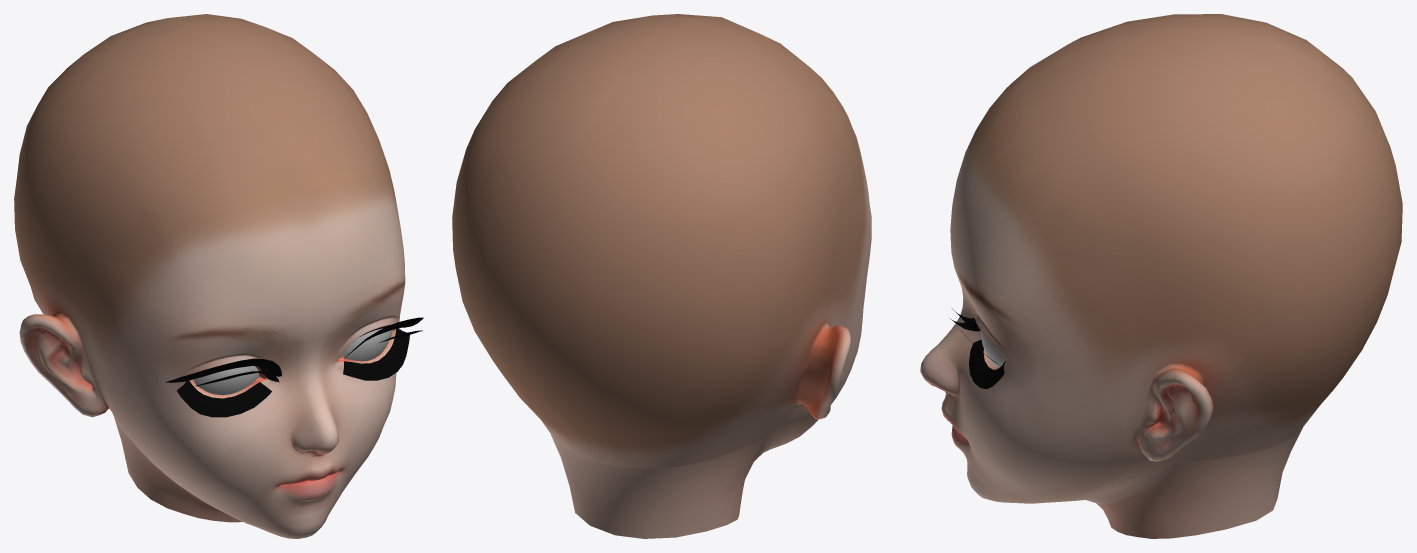
The model's file is zh0901-张欢脸.fbx.
3 views of the same model, side by side, from view 1: azimuth 30°, elevation 25°; view 2: azimuth 150°, elevation 25°; view 3: azimuth 270°, elevation 25° (orthographic). The views are drawn at different scales.
Parts seen in each view (by area): view 1: zhlian0901, zhjiemao0901, zhyanqiu0901; view 2: zhlian0901; view 3: zhlian0901, zhjiemao0901.
Boxes of the visible parts, x1,y1,x2,y2 form: zhlian0901: [14, 14, 405, 538]; zhjiemao0901: [165, 317, 423, 417]; zhyanqiu0901: [193, 328, 392, 395]; zhlian0901: [452, 14, 871, 538]; zhlian0901: [920, 14, 1402, 538]; zhjiemao0901: [951, 308, 1005, 389].
Size of the model in its own units: 17.63 by 21.39 by 19.07.
